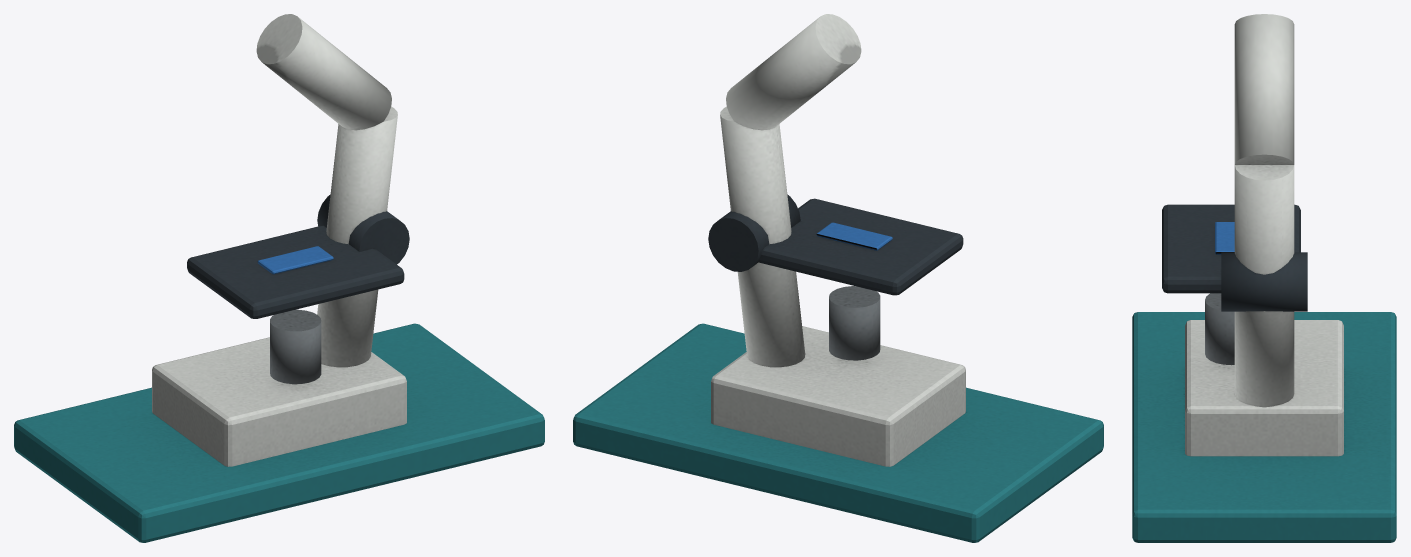
3 views of the same model, side by side, from view 1: azimuth 30°, elevation 25°; view 2: azimuth 150°, elevation 25°; view 3: azimuth 270°, elevation 25° (orthographic). The views are drawn at different scales.
Bounding box in the file's own units: 1.45 × 1.46 × 0.8.
1 material, 1 textured.
